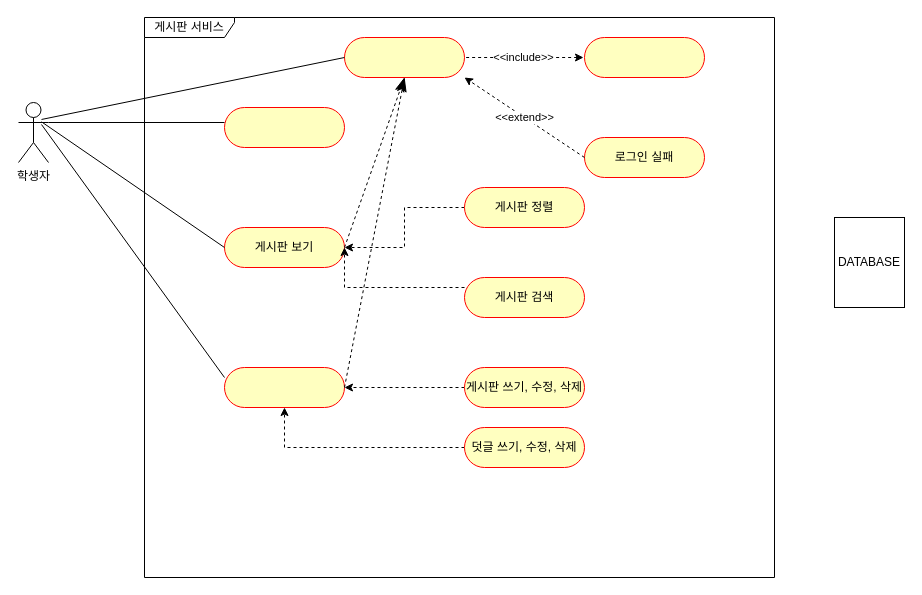
Image size: 922x595. Some labels were removed from this diagram. Each missing label, with the centre of its shape:
게시글 보기: pixel 284 387
인증: pixel 644 57
회원 로그인: pixel 404 57
회원가입: pixel 284 127
